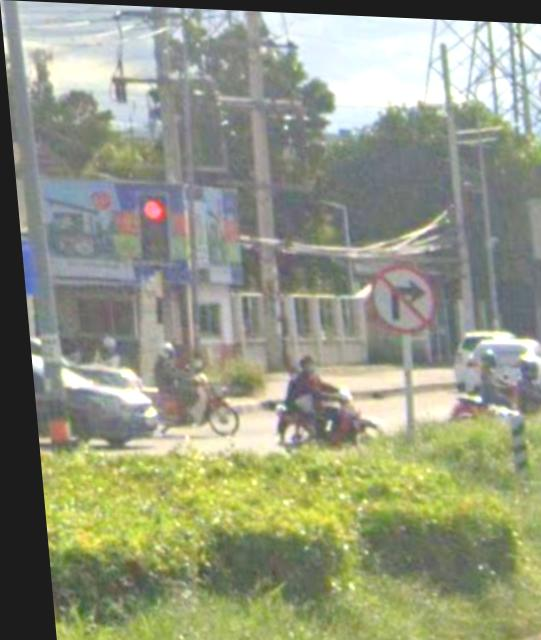not_turn_right: (362, 257, 437, 335)
